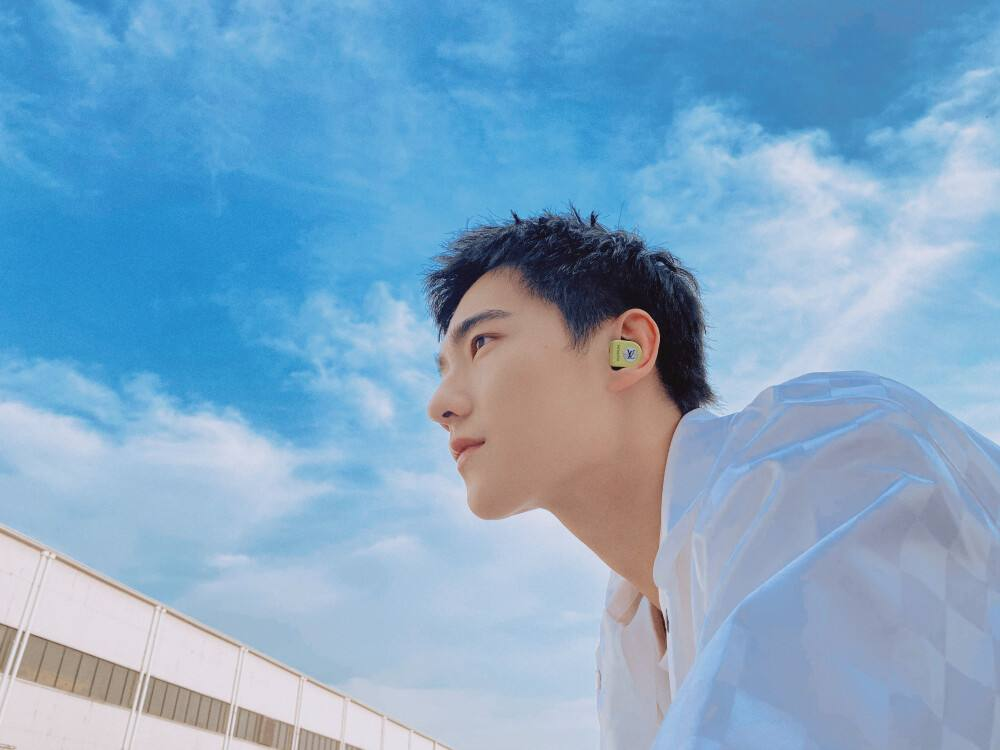person: (396, 168, 850, 700)
